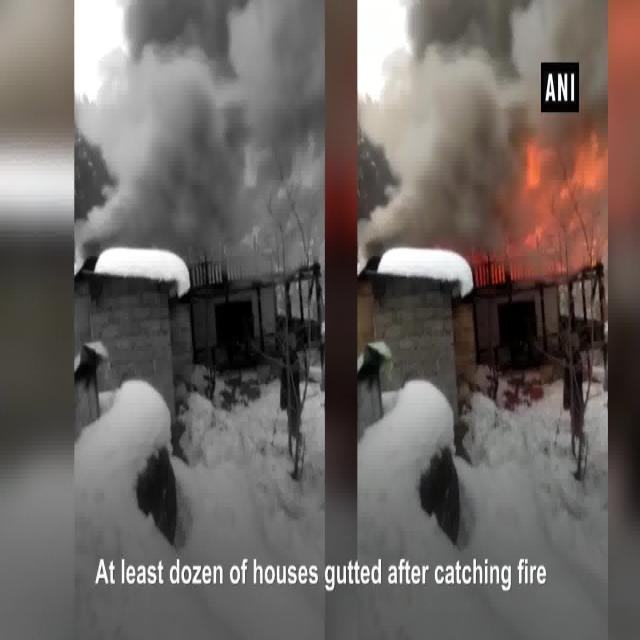Fire: (526, 150, 612, 202)
Smoke: (128, 10, 320, 251), (411, 7, 521, 240)
